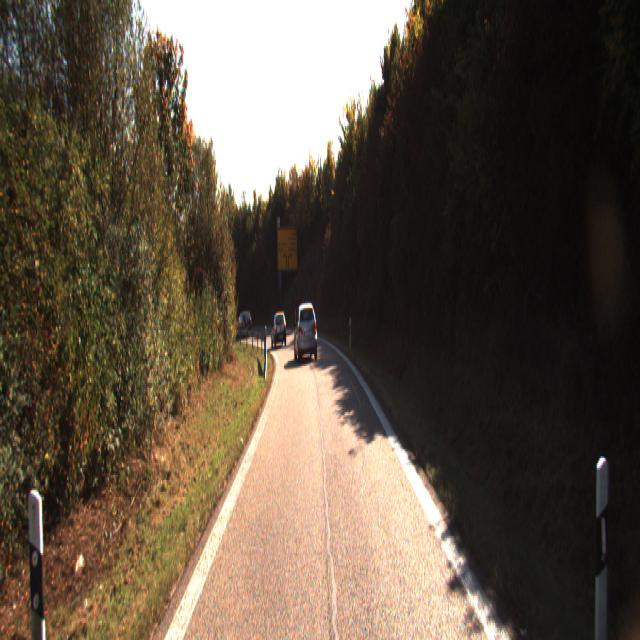Car: (294, 300, 317, 360), (270, 312, 286, 347), (235, 310, 252, 335)
